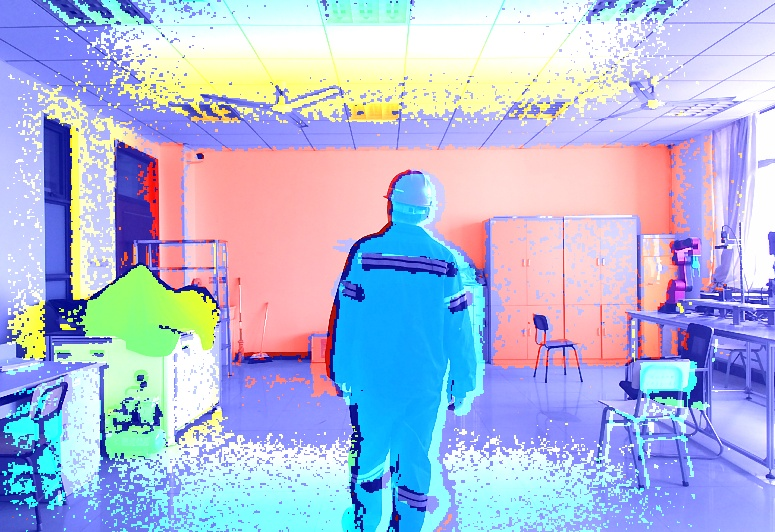person: (327, 172, 486, 532)
